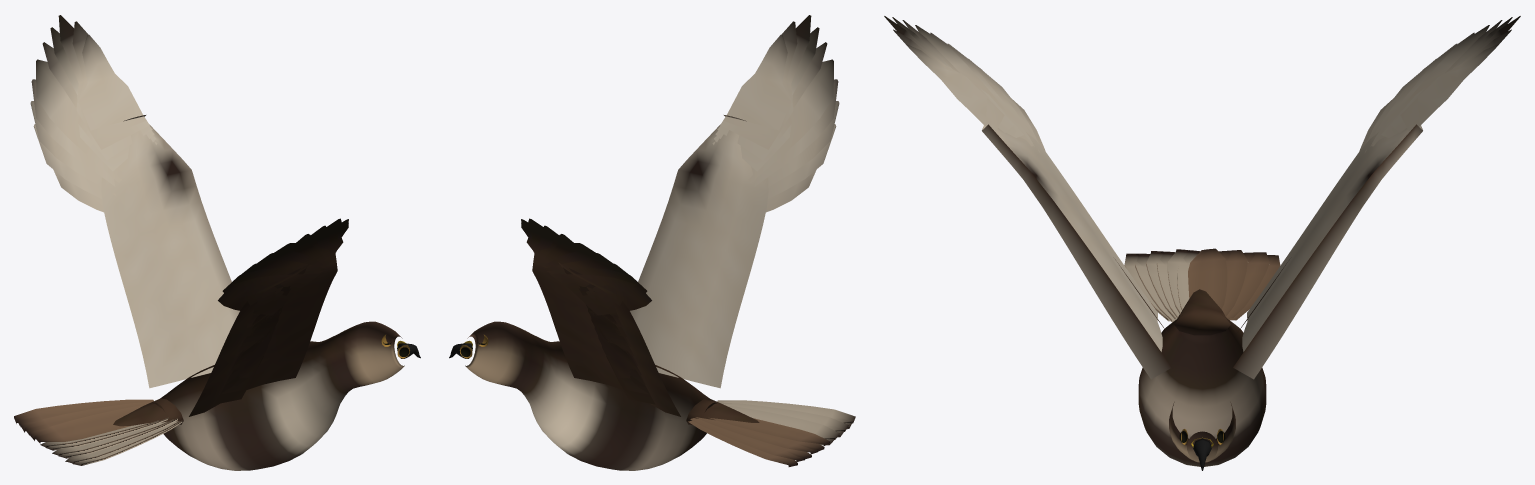
File: SM_Bird_buzzard_flap0.glb
The picture shows the model from 3 angles, left to right: view 1: azimuth 30°, elevation 25°; view 2: azimuth 150°, elevation 25°; view 3: azimuth 270°, elevation 25°; orthographic projection. The views are drawn at different scales.
Visible parts, largest first — view 1: SM_Bird_buzzard_flap0; view 2: SM_Bird_buzzard_flap0; view 3: SM_Bird_buzzard_flap0.
Boxes of the visible parts, box(x1,y1,x2,y2) form: SM_Bird_buzzard_flap0: box(14, 15, 420, 470); SM_Bird_buzzard_flap0: box(449, 15, 855, 470); SM_Bird_buzzard_flap0: box(884, 16, 1520, 470).
Size of the model in its own units: 0.5872 by 0.5326 by 0.7503.
